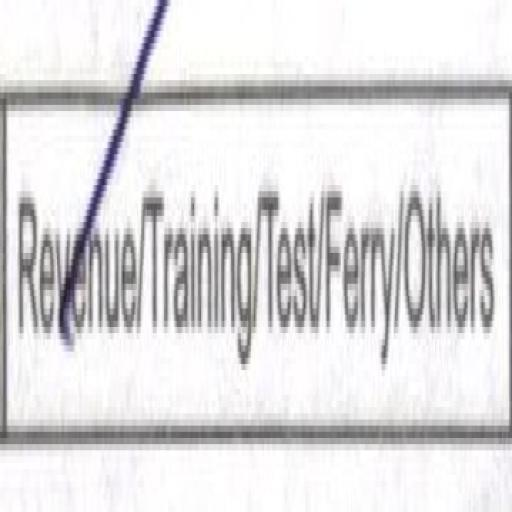check: (0, 22, 146, 479)
